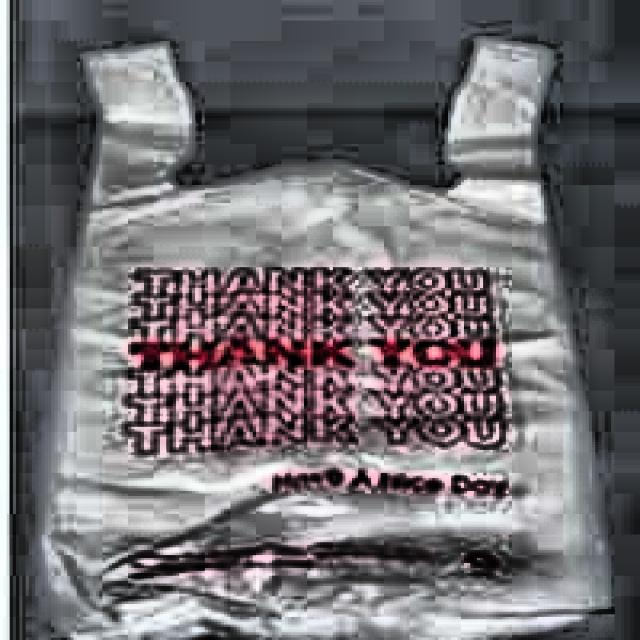Plastic: (40, 25, 630, 640)
